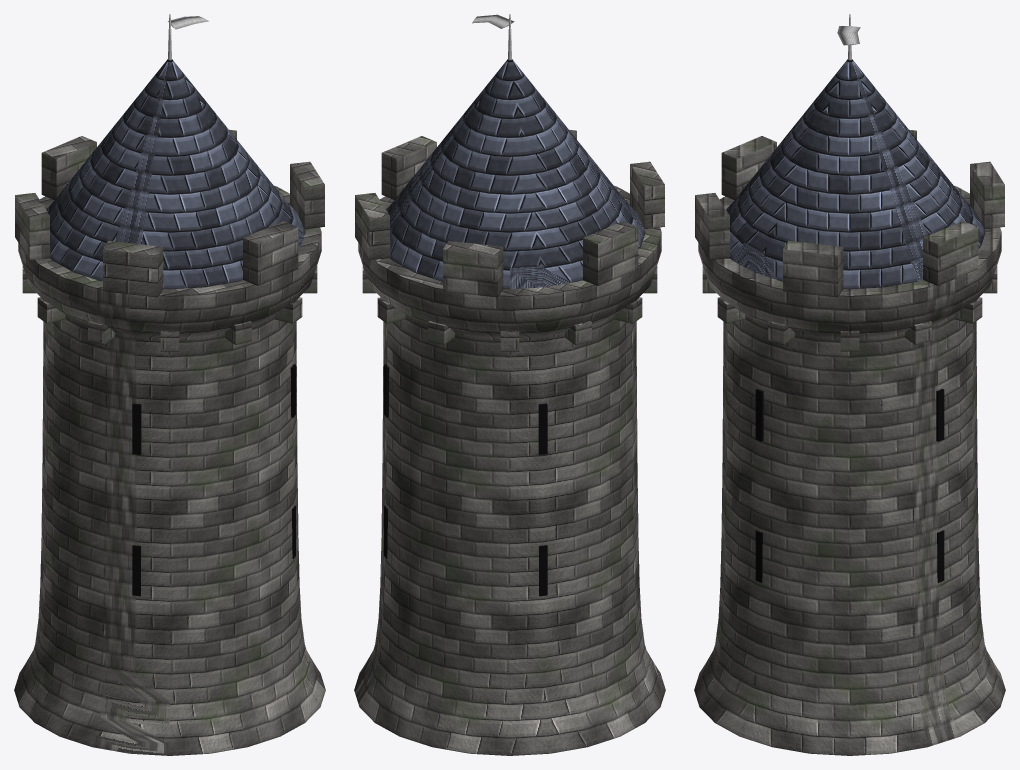
Rendered from tower.obj.
3 renders of one model, left to right at view 1: azimuth 30°, elevation 25°; view 2: azimuth 150°, elevation 25°; view 3: azimuth 270°, elevation 25°, orthographic.
Size of the model in its own units: 7.4 by 17.7 by 7.4.
5 materials, 4 textured.
